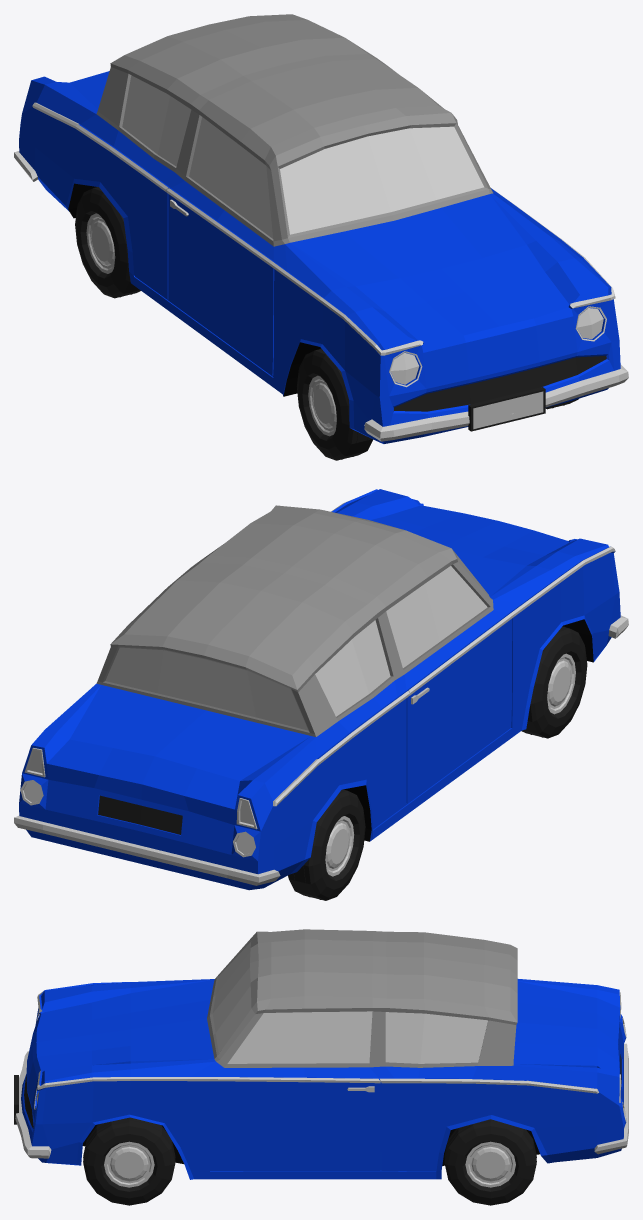
File: car.obj
3 renders of one model, top to bottom at view 1: azimuth 30°, elevation 25°; view 2: azimuth 150°, elevation 25°; view 3: azimuth 270°, elevation 25°, orthographic. The views are drawn at different scales.
Visible parts, largest first — view 1: car_Plane.001, Tyre_Cylinder.001, Plane_Plane.004; view 2: car_Plane.001, Tyre_Cylinder.001; view 3: car_Plane.001, Tyre_Cylinder.001.
Part boxes in pixels (left/top/right/bottom): car_Plane.001: left=14, top=14, right=628, bottom=443; Tyre_Cylinder.001: left=75, top=187, right=578, bottom=460; Plane_Plane.004: left=468, top=387, right=545, bottom=431; car_Plane.001: left=14, top=489, right=628, bottom=890; Tyre_Cylinder.001: left=288, top=626, right=587, bottom=900; car_Plane.001: left=15, top=929, right=628, bottom=1179; Tyre_Cylinder.001: left=83, top=1117, right=536, bottom=1205.
Size of the model in its own units: 1.53 by 1.45 by 3.93.
